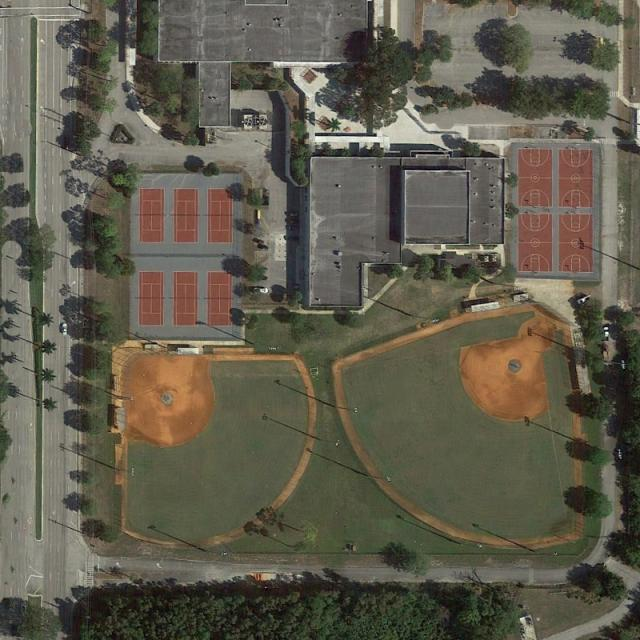vehicle: (598, 343, 609, 361), (602, 325, 610, 342), (254, 287, 269, 294), (62, 322, 67, 335)
